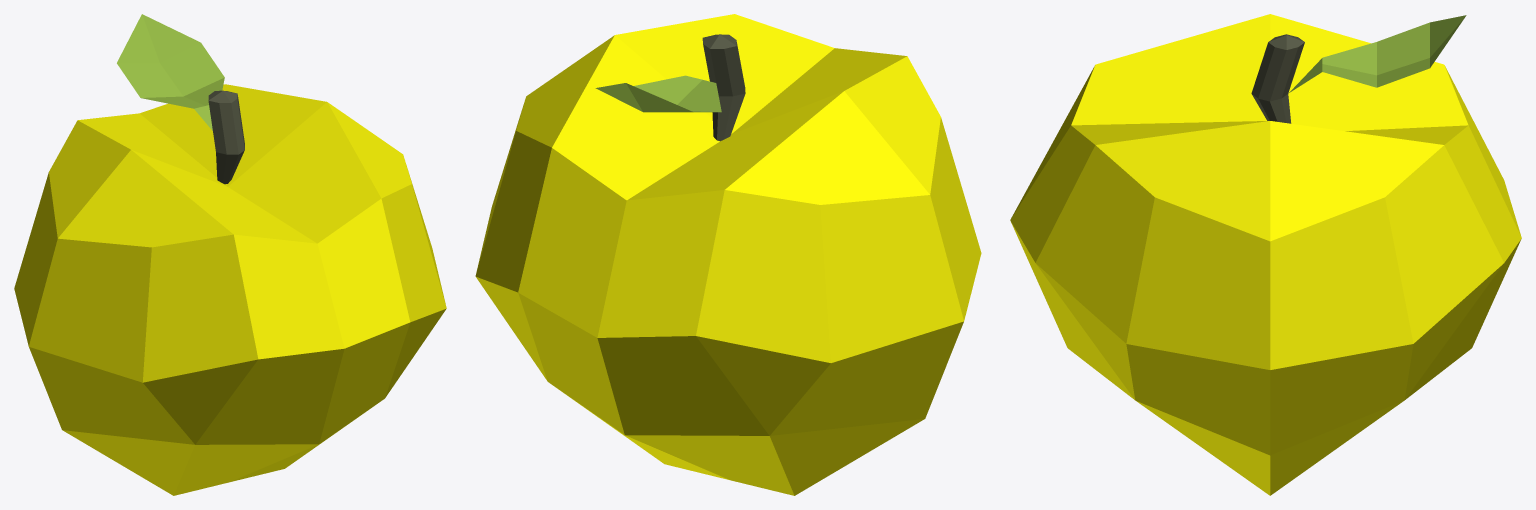
The model's file is Golden Apple.fbx.
3 views of the same model, side by side, from view 1: azimuth 30°, elevation 25°; view 2: azimuth 150°, elevation 25°; view 3: azimuth 270°, elevation 25° (orthographic). The views are drawn at different scales.
Parts seen in each view (by area): view 1: Golden Apple; view 2: Golden Apple; view 3: Golden Apple.
Part boxes in pixels (<box>): Golden Apple: <box>14,14,446,495</box>; Golden Apple: <box>475,14,981,495</box>; Golden Apple: <box>1010,14,1521,495</box>.
Bounding box in the file's own units: 8.19 × 7.83 × 8.05.
